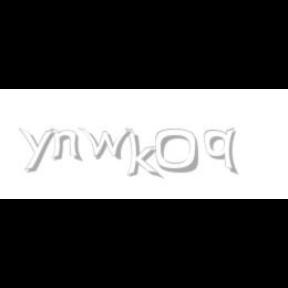O: (154, 128, 200, 174)
k: (125, 128, 163, 180)
n: (49, 128, 83, 162)
q: (204, 128, 240, 176)
w: (78, 128, 136, 160)
y: (19, 128, 59, 172)
